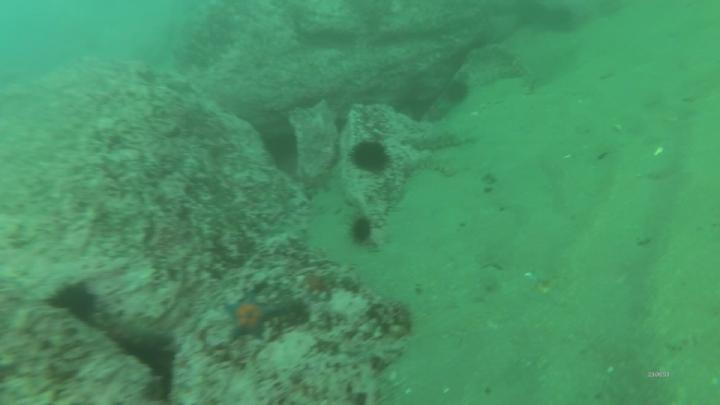echinus: (47, 282, 99, 322), (347, 138, 395, 174), (346, 212, 379, 247), (442, 78, 473, 103)
holothurian: (506, 46, 538, 94), (412, 129, 476, 150), (402, 154, 458, 176)
starfish: (222, 289, 282, 343)
